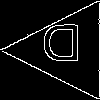D: (41, 25, 83, 71)
